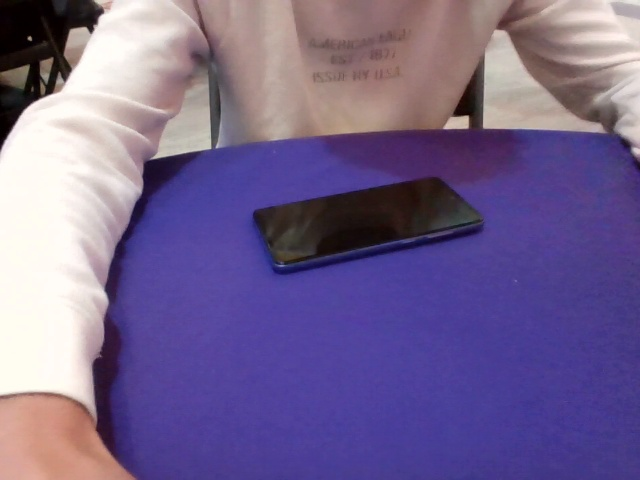celular: (253, 176, 485, 273)
